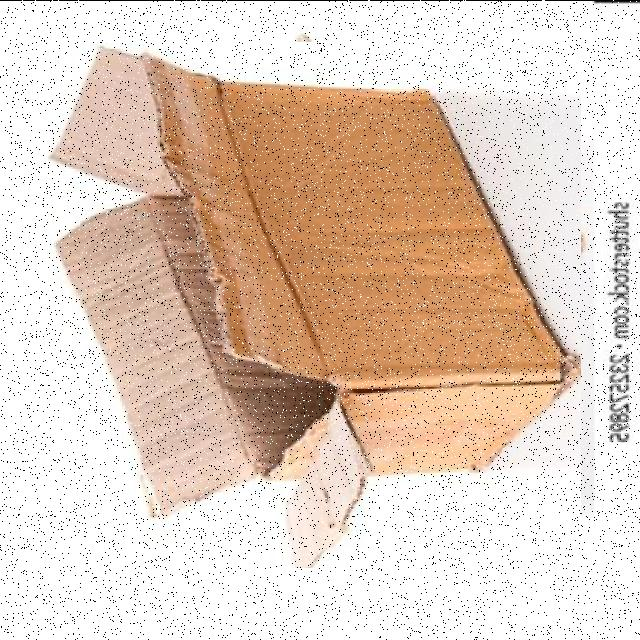defect: (48, 41, 582, 568)
